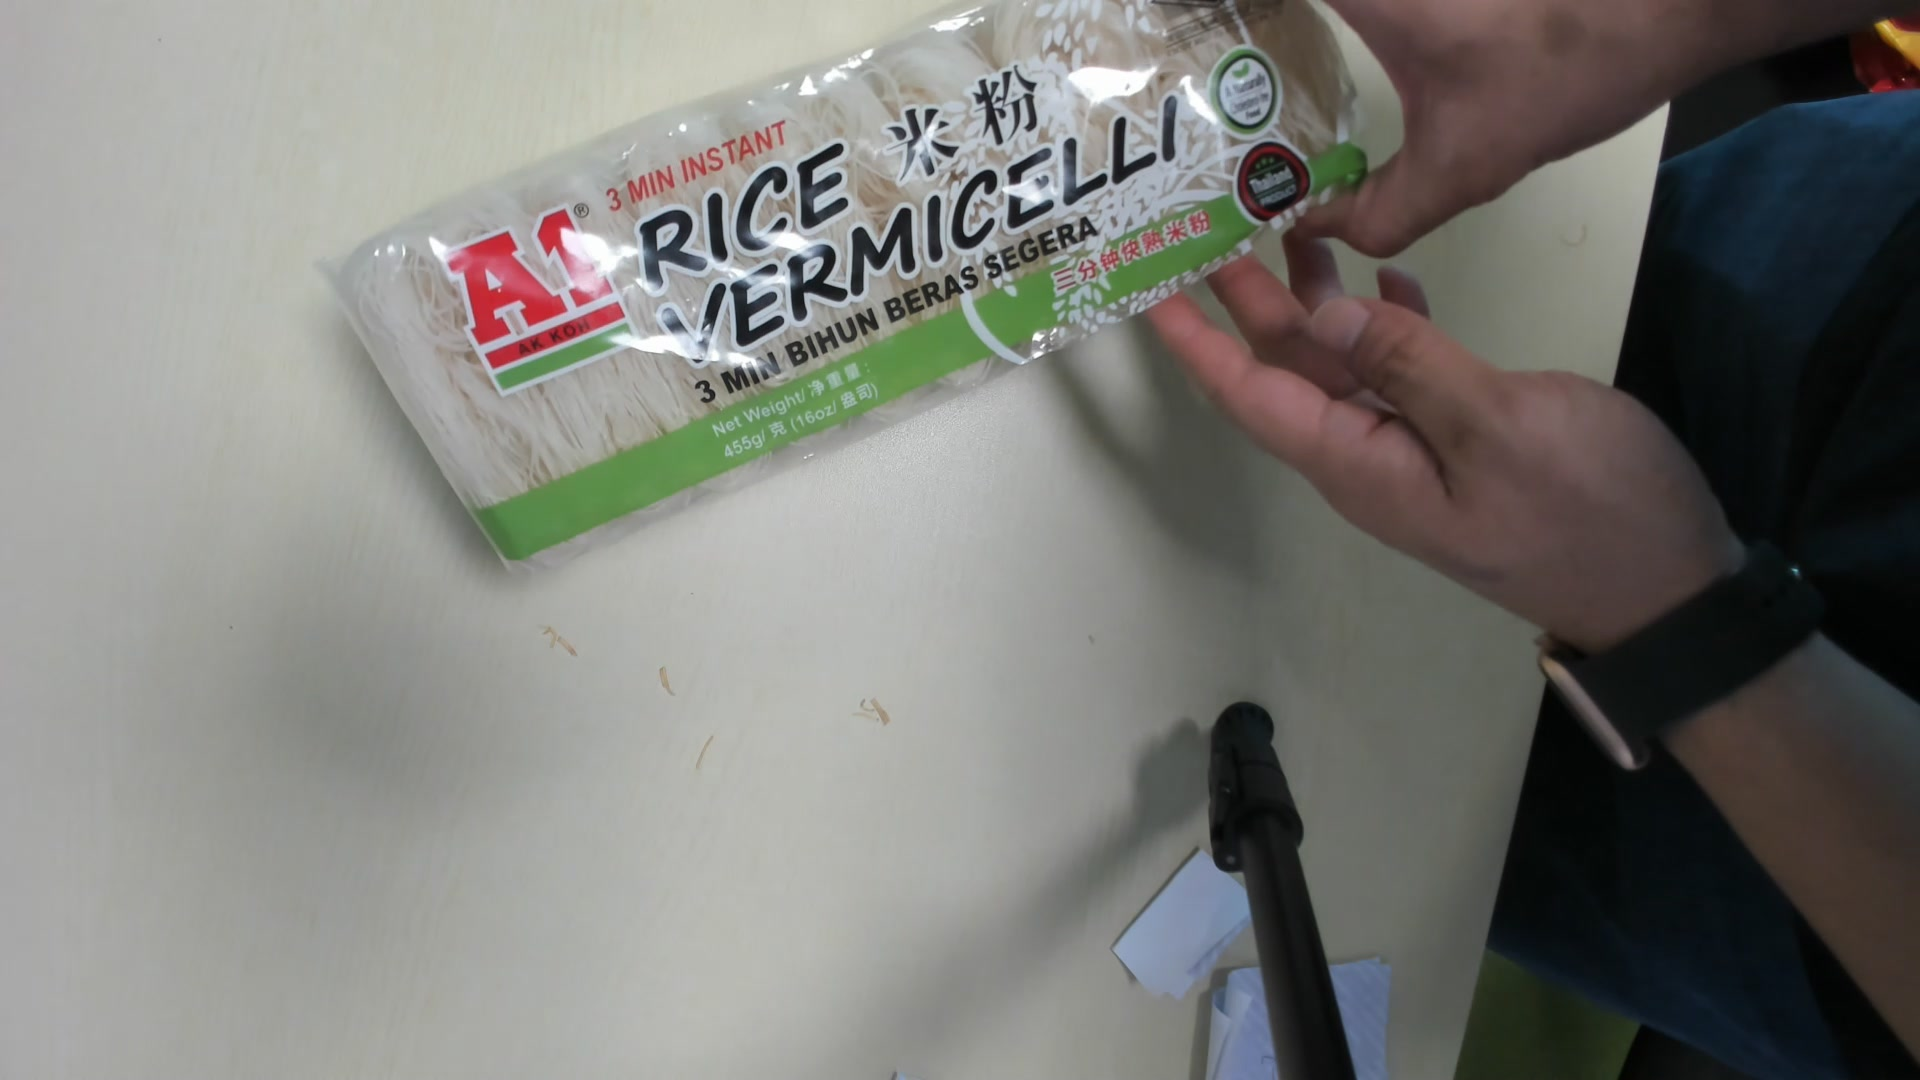BeeHoonVermicelli_400-499g_Halal_NonHealthy: (326, 9, 1367, 588)
